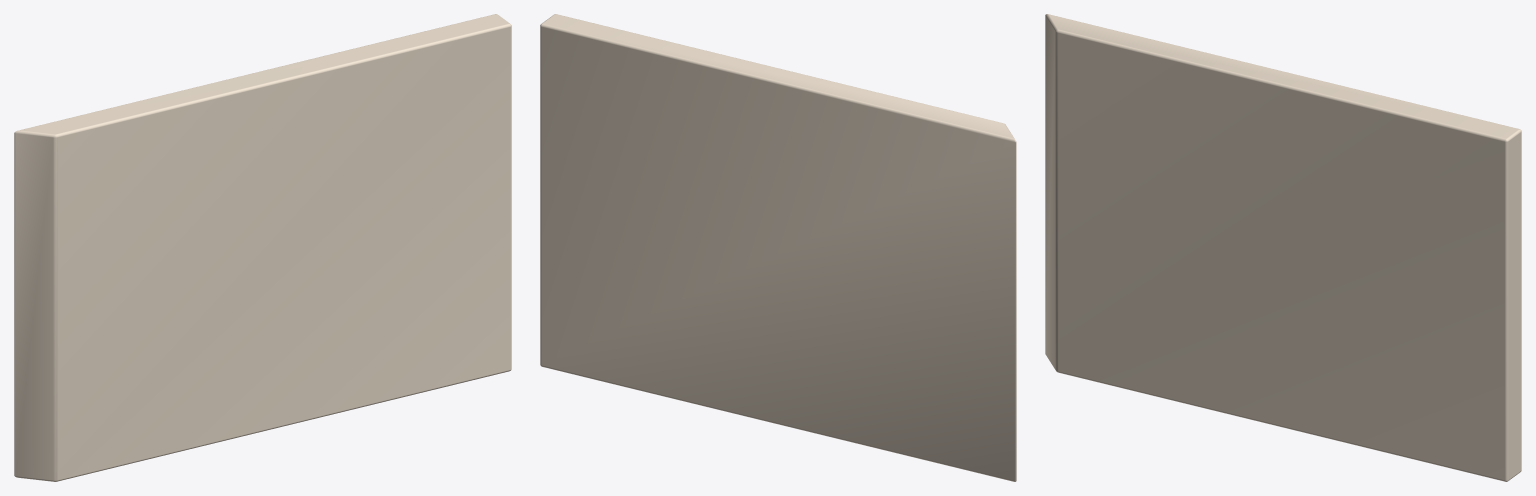
Rendered from right-wall.glb.
3 views of the same model, side by side, from view 1: azimuth 30°, elevation 25°; view 2: azimuth 150°, elevation 25°; view 3: azimuth 330°, elevation 25° (orthographic).
Visible parts, largest first — view 1: wall_panel; view 2: wall_panel; view 3: wall_panel.
Part boxes in pixels (left/top/right/bottom): wall_panel: left=14, top=14, right=511, bottom=481; wall_panel: left=540, top=14, right=1016, bottom=481; wall_panel: left=1045, top=14, right=1521, bottom=481.
Bounding box in the file's own units: 5.09 × 3.5 × 0.2852.
